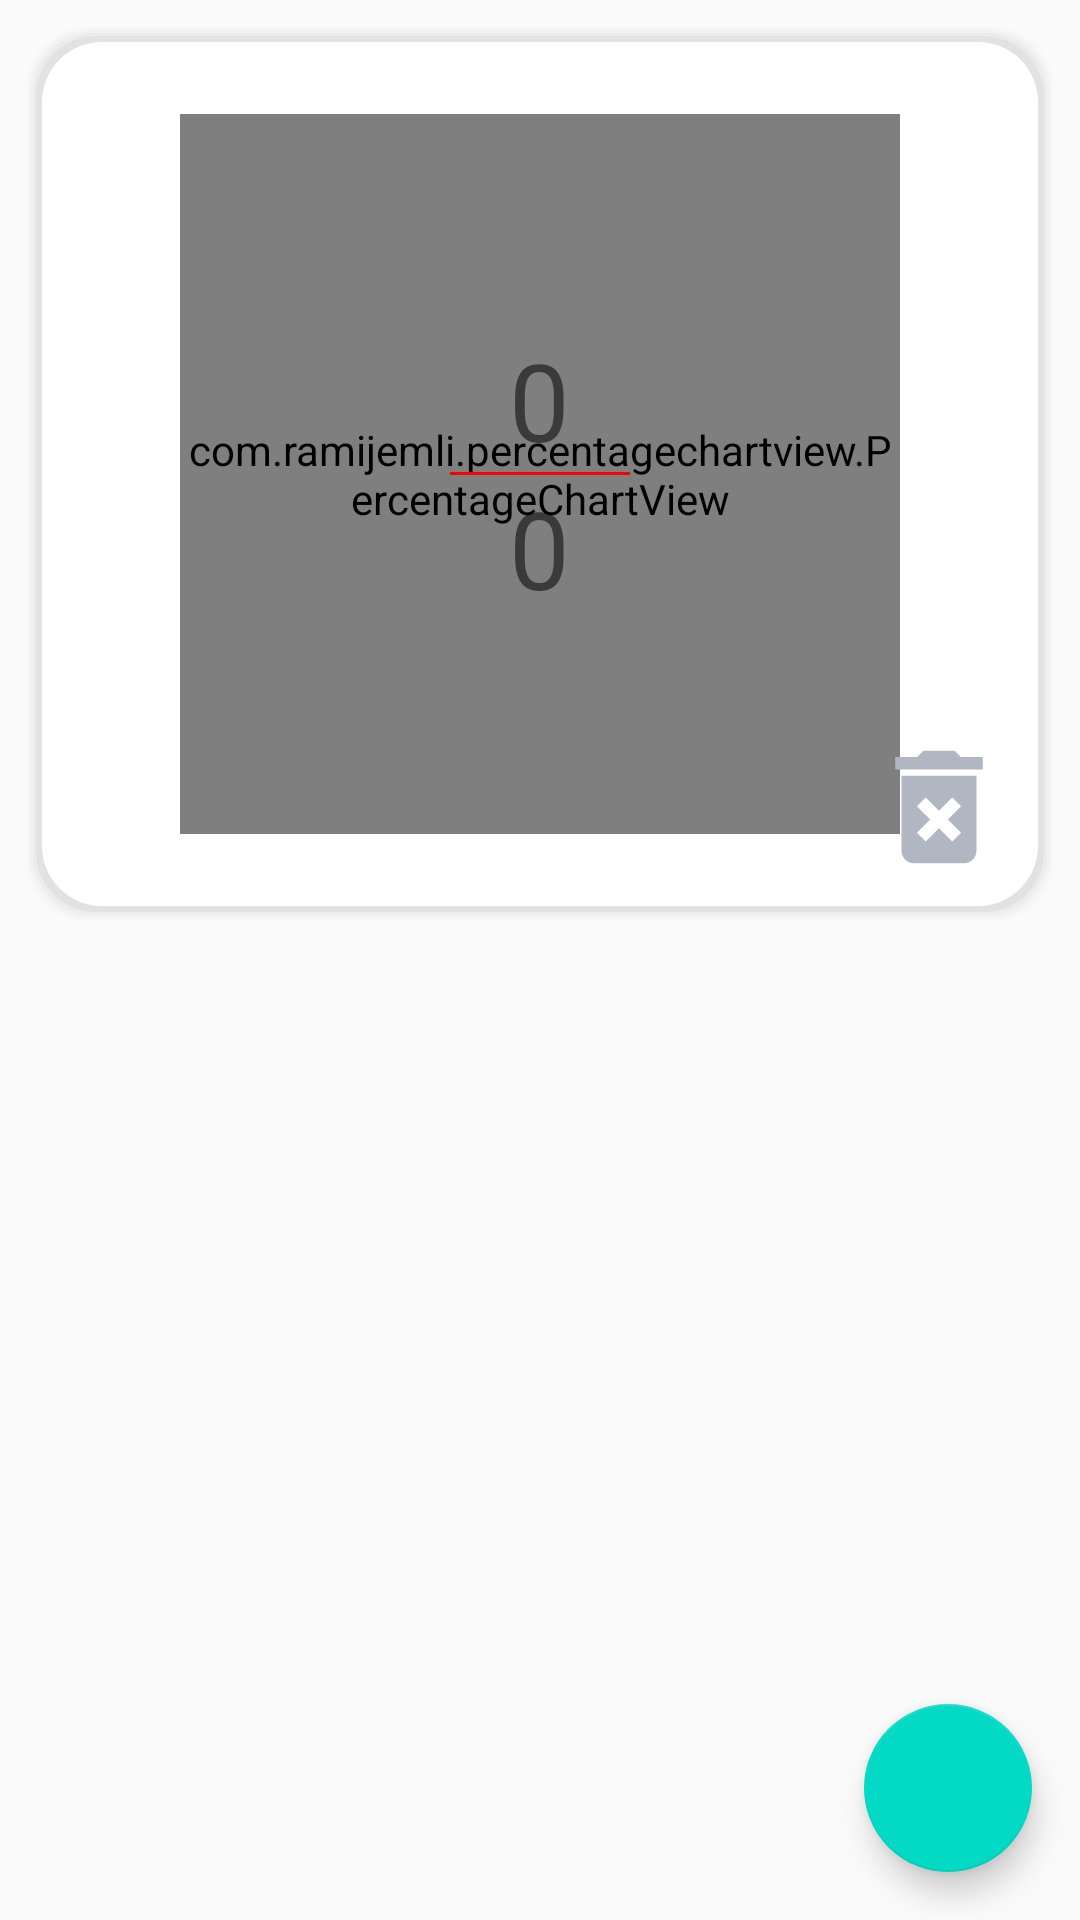

Named icons in this screenshot (1080*1920) and their bounding boxes, (x1, y1, x2, y2):
delete: (901, 776, 977, 863)
